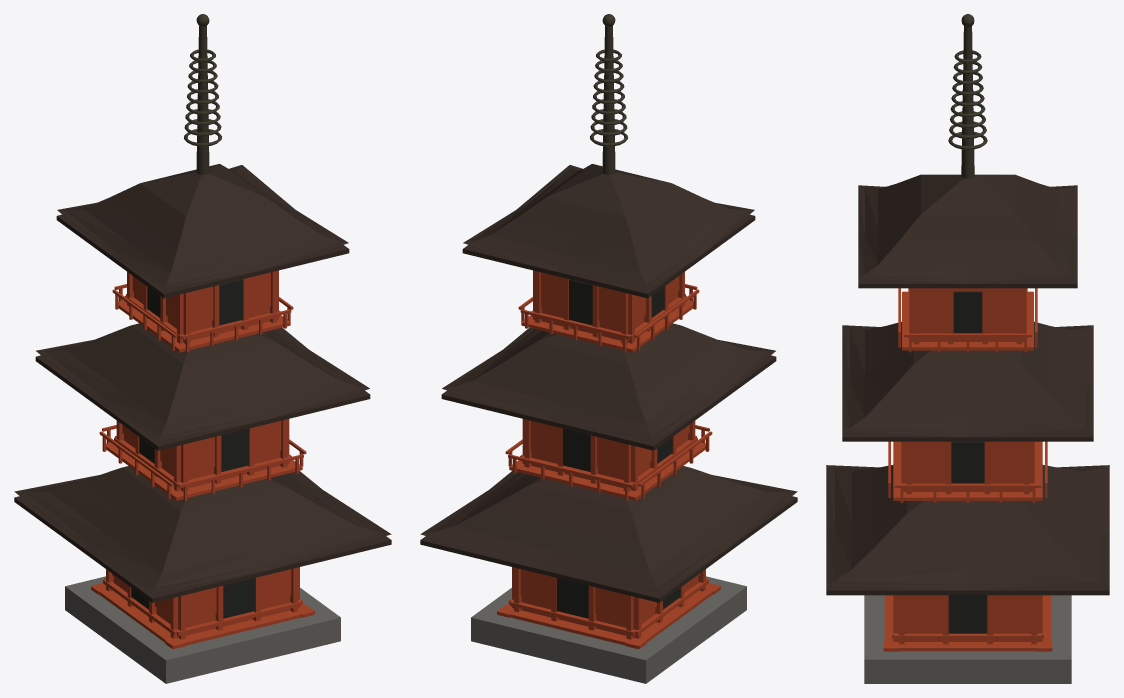
Rendered from kiyomizu.glb.
3 renders of one model, left to right at view 1: azimuth 30°, elevation 25°; view 2: azimuth 150°, elevation 25°; view 3: azimuth 270°, elevation 25°, orthographic. The views are drawn at different scales.
Size of the model in its own units: 12.71 by 31 by 12.71.
